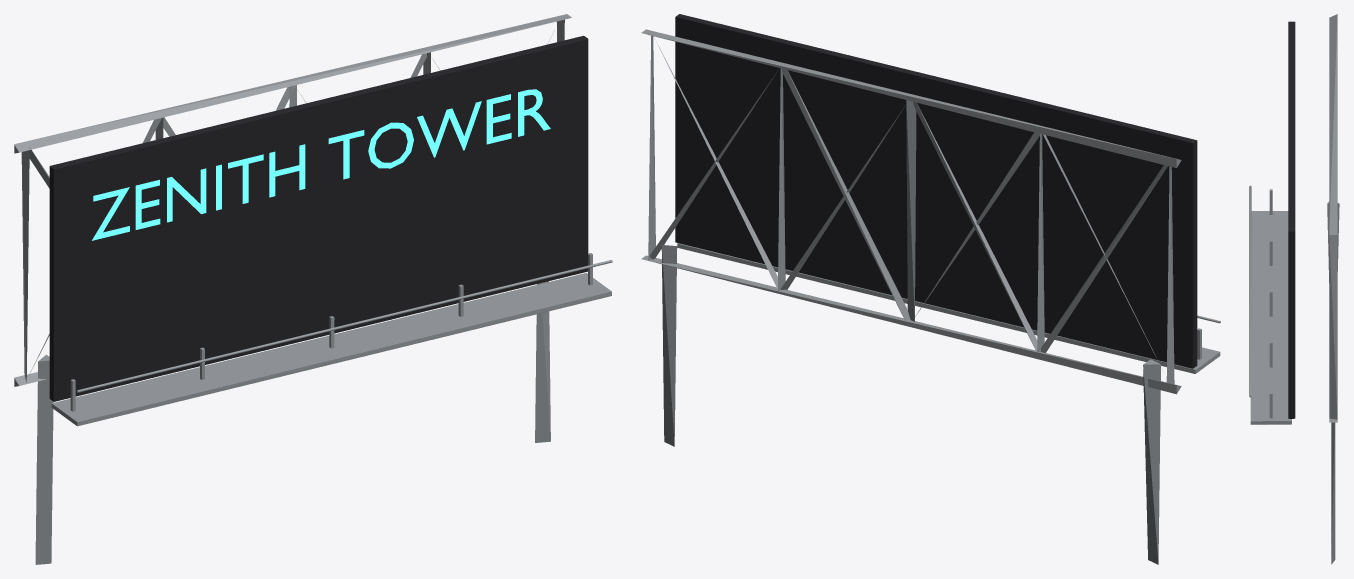
Rendered from prop_sign_billboard_zenith_tower_12x5_lod1.glb.
3 views of the same model, side by side, from view 1: azimuth 30°, elevation 25°; view 2: azimuth 150°, elevation 25°; view 3: azimuth 270°, elevation 25° (orthographic). The views are drawn at different scales.
Parts seen in each view (by area): view 1: sign_billboard_zenith_tower_12x5_panel_lod1, sign_billboard_zenith_tower_12x5_catwalk_lod1, sign_billboard_zenith_tower_12x5_lattice_lod1, sign_billboard_zenith_tower_12x5_neon_lod1, sign_billboard_zenith_tower_12x5_legs_lod1; view 2: sign_billboard_zenith_tower_12x5_panel_lod1, sign_billboard_zenith_tower_12x5_lattice_lod1, sign_billboard_zenith_tower_12x5_legs_lod1, sign_billboard_zenith_tower_12x5_catwalk_lod1; view 3: sign_billboard_zenith_tower_12x5_catwalk_lod1, sign_billboard_zenith_tower_12x5_lattice_lod1, sign_billboard_zenith_tower_12x5_panel_lod1, sign_billboard_zenith_tower_12x5_legs_lod1.
Boxes of the visible parts, x1,y1,x2,y2 form: sign_billboard_zenith_tower_12x5_panel_lod1: (49,35,588,401); sign_billboard_zenith_tower_12x5_catwalk_lod1: (51,253,612,426); sign_billboard_zenith_tower_12x5_lattice_lod1: (14,14,571,386); sign_billboard_zenith_tower_12x5_neon_lod1: (92,89,550,240); sign_billboard_zenith_tower_12x5_legs_lod1: (35,281,550,564); sign_billboard_zenith_tower_12x5_panel_lod1: (675,14,1197,368); sign_billboard_zenith_tower_12x5_lattice_lod1: (641,29,1181,394); sign_billboard_zenith_tower_12x5_legs_lod1: (661,245,1160,564); sign_billboard_zenith_tower_12x5_catwalk_lod1: (677,243,1220,373); sign_billboard_zenith_tower_12x5_catwalk_lod1: (1249,185,1291,424); sign_billboard_zenith_tower_12x5_lattice_lod1: (1329,14,1337,422); sign_billboard_zenith_tower_12x5_panel_lod1: (1288,21,1295,418); sign_billboard_zenith_tower_12x5_legs_lod1: (1327,201,1339,564).
Bounding box in the file's own units: 12.4 × 9.1 × 2.18.
